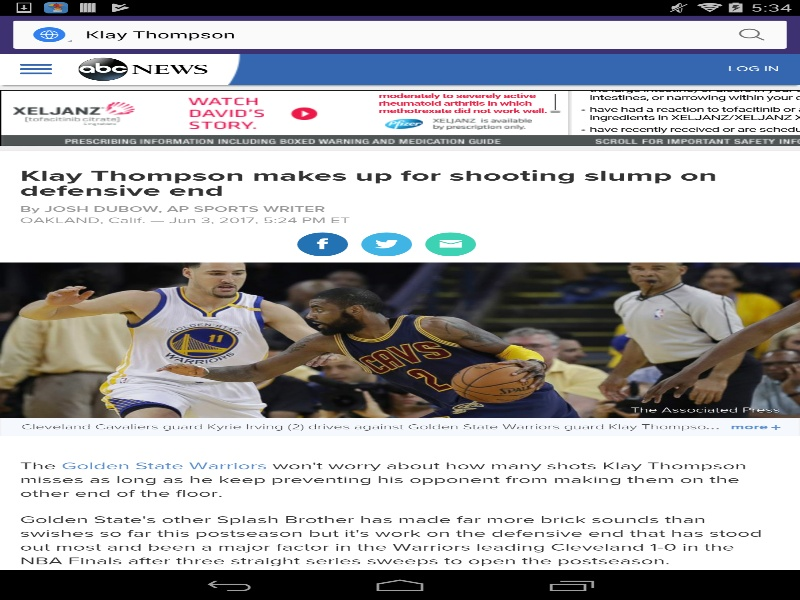Input: (85, 20, 722, 48)
